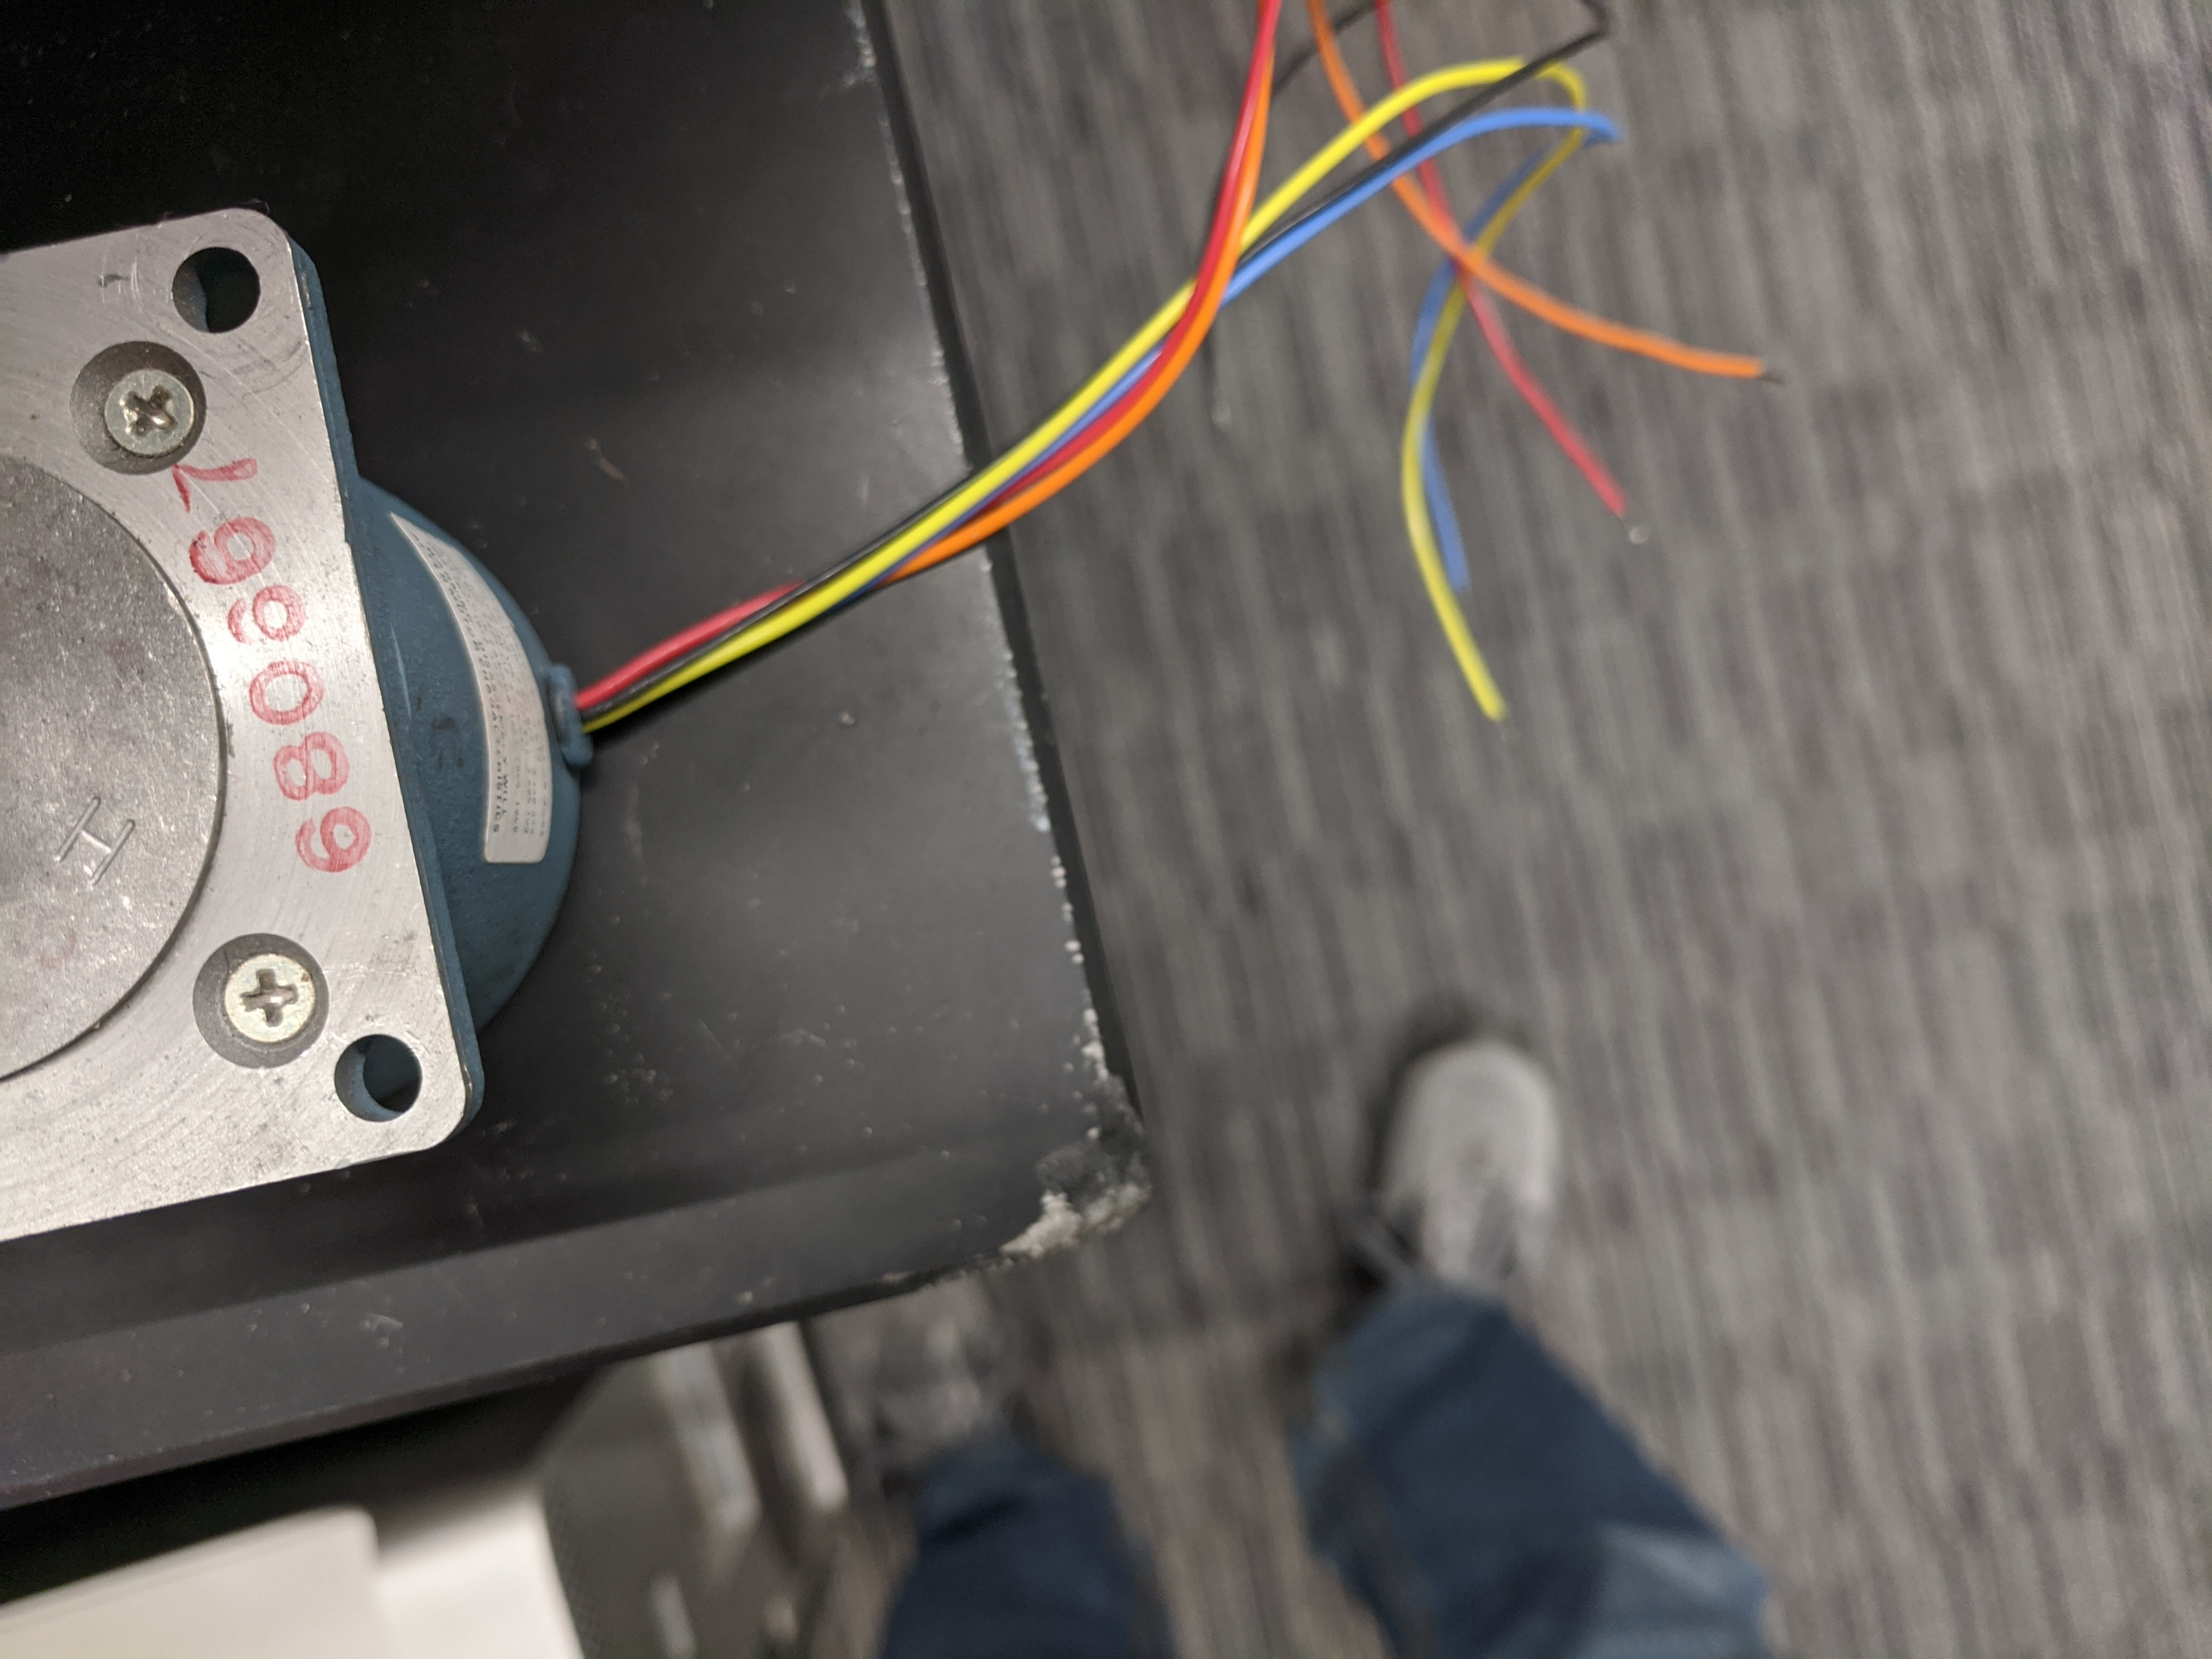cross_recessed_screw: (85, 357, 204, 462), (212, 938, 320, 1051)
